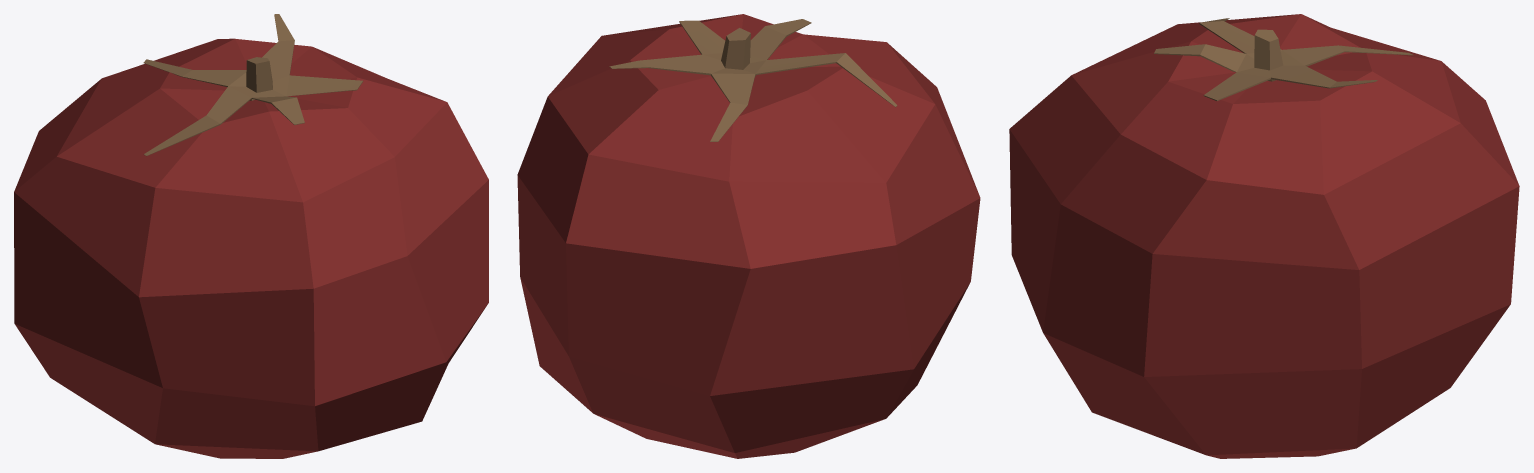
Rendered from Tomato_Rotten.fbx.
3 views of the same model, side by side, from view 1: azimuth 30°, elevation 25°; view 2: azimuth 150°, elevation 25°; view 3: azimuth 270°, elevation 25° (orthographic). The views are drawn at different scales.
Visible parts, largest first — view 1: SM_Tomato_Rotten; view 2: SM_Tomato_Rotten; view 3: SM_Tomato_Rotten.
Part boxes in pixels (x1=…): SM_Tomato_Rotten: x1=14, y1=14, x2=488, y2=458; SM_Tomato_Rotten: x1=517, y1=14, x2=980, y2=458; SM_Tomato_Rotten: x1=1009, y1=14, x2=1519, y2=458.
Size of the model in its own units: 8.97 by 8.34 by 9.88.
Materials: 1 (1 with a texture image).
